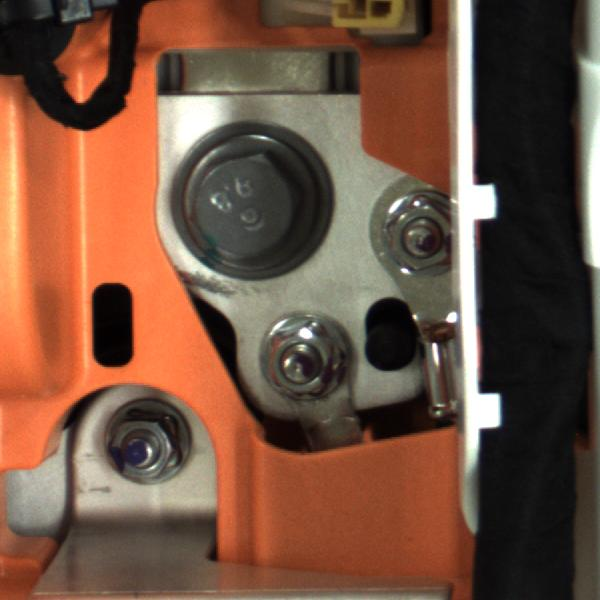nut_b: (163, 116, 328, 286)
screw_s: (94, 403, 203, 496), (254, 308, 348, 407), (368, 190, 456, 286)
